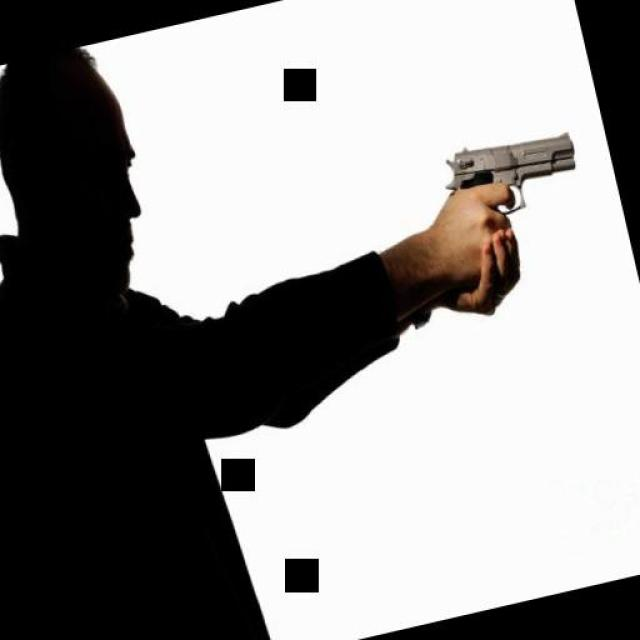gun: (435, 120, 586, 236)
